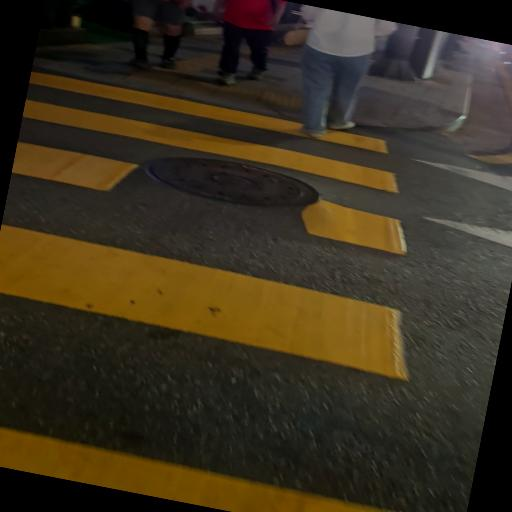yellow-crosswalk: (0, 55, 512, 512)
